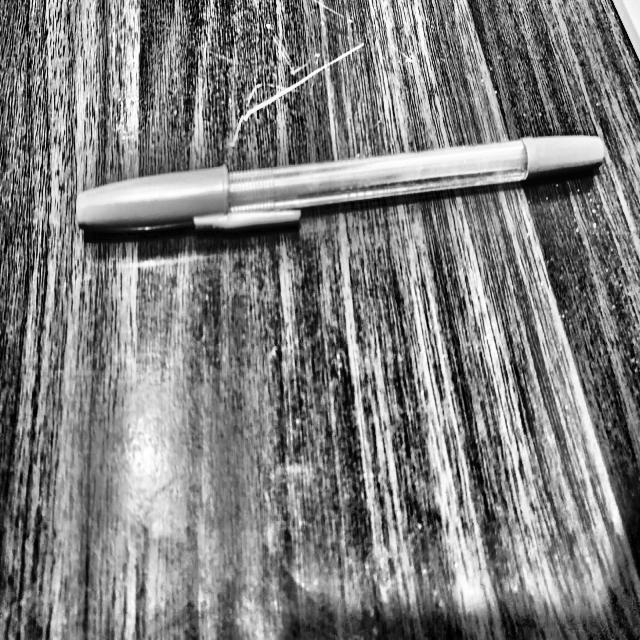Pen: (69, 120, 629, 239)
